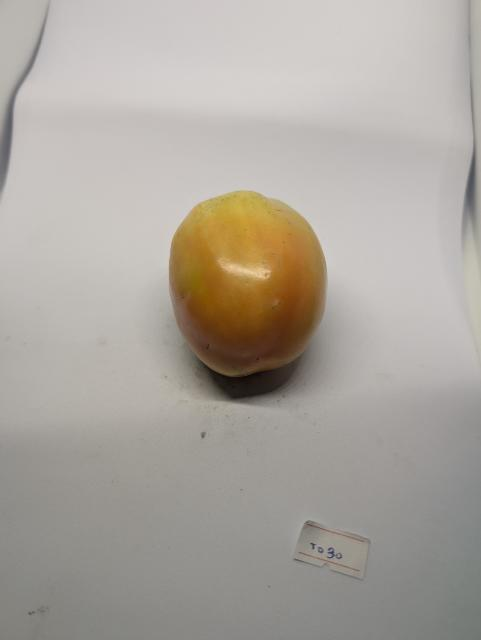turning: (163, 176, 335, 391)
